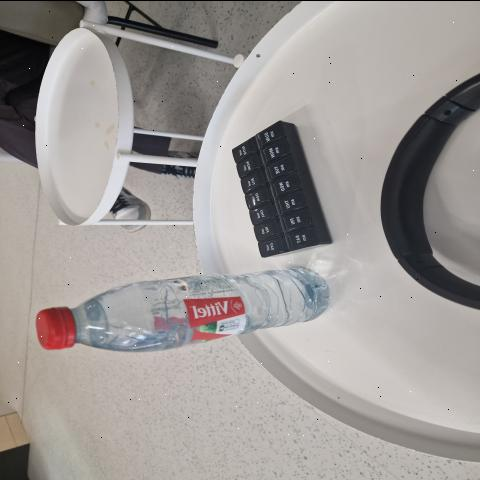PillBox: (221, 108, 347, 266)
